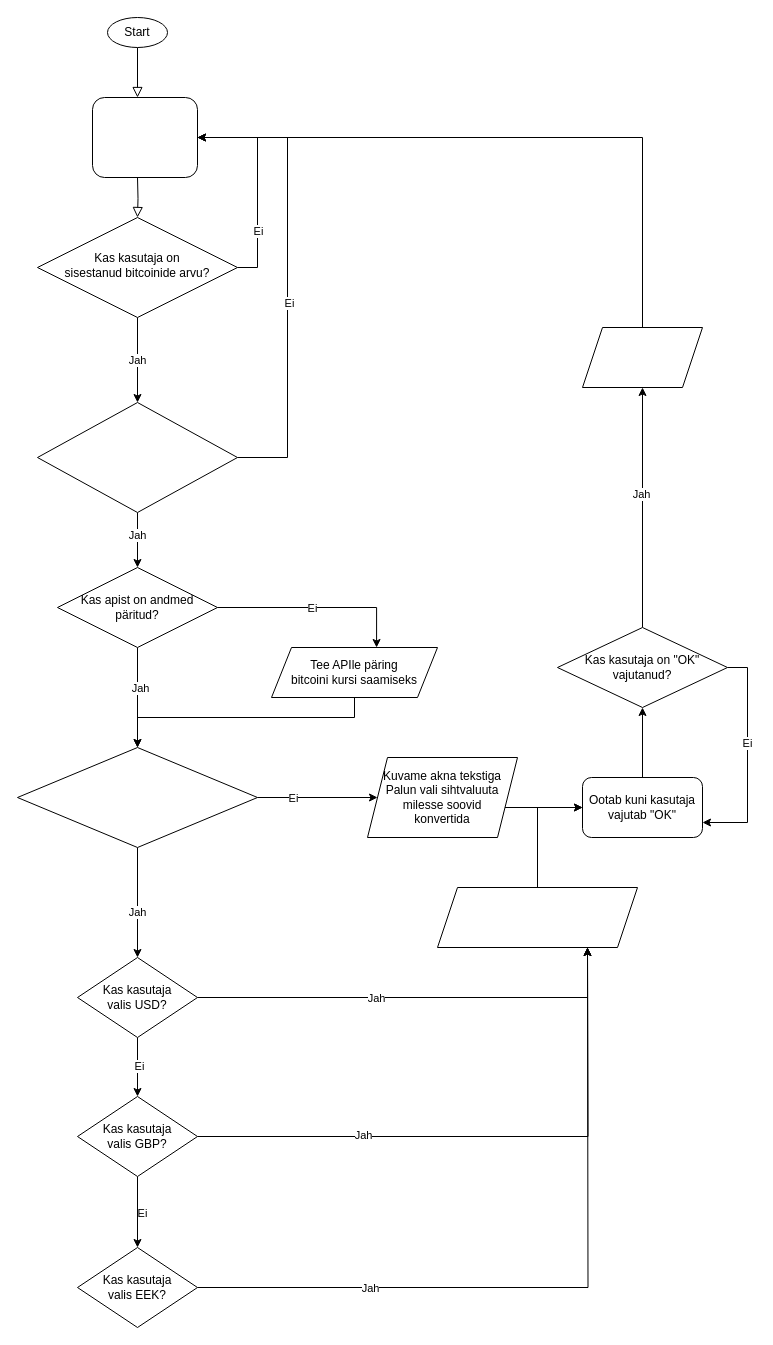
The diagram is 773 pixels wide and 1345 high, and some of its shapes have lost their labels. The centre of each missing label's shape, as x and y in pixels:
"Arvutab kasutajale Bitcoini konversioonikursi" goes at (537,917).
"Kas kasutaja on vajutanud konverteerimise nuppu?" goes at (137,457).
"Kas kasutaja on valinud valuuta millesse bitcoin koverteerida?" goes at (137,797).
"Kasutaja ei ole midagi sisestanud" goes at (145,137).
"Kuva kasutajale tulemus:" goes at (642,357).
